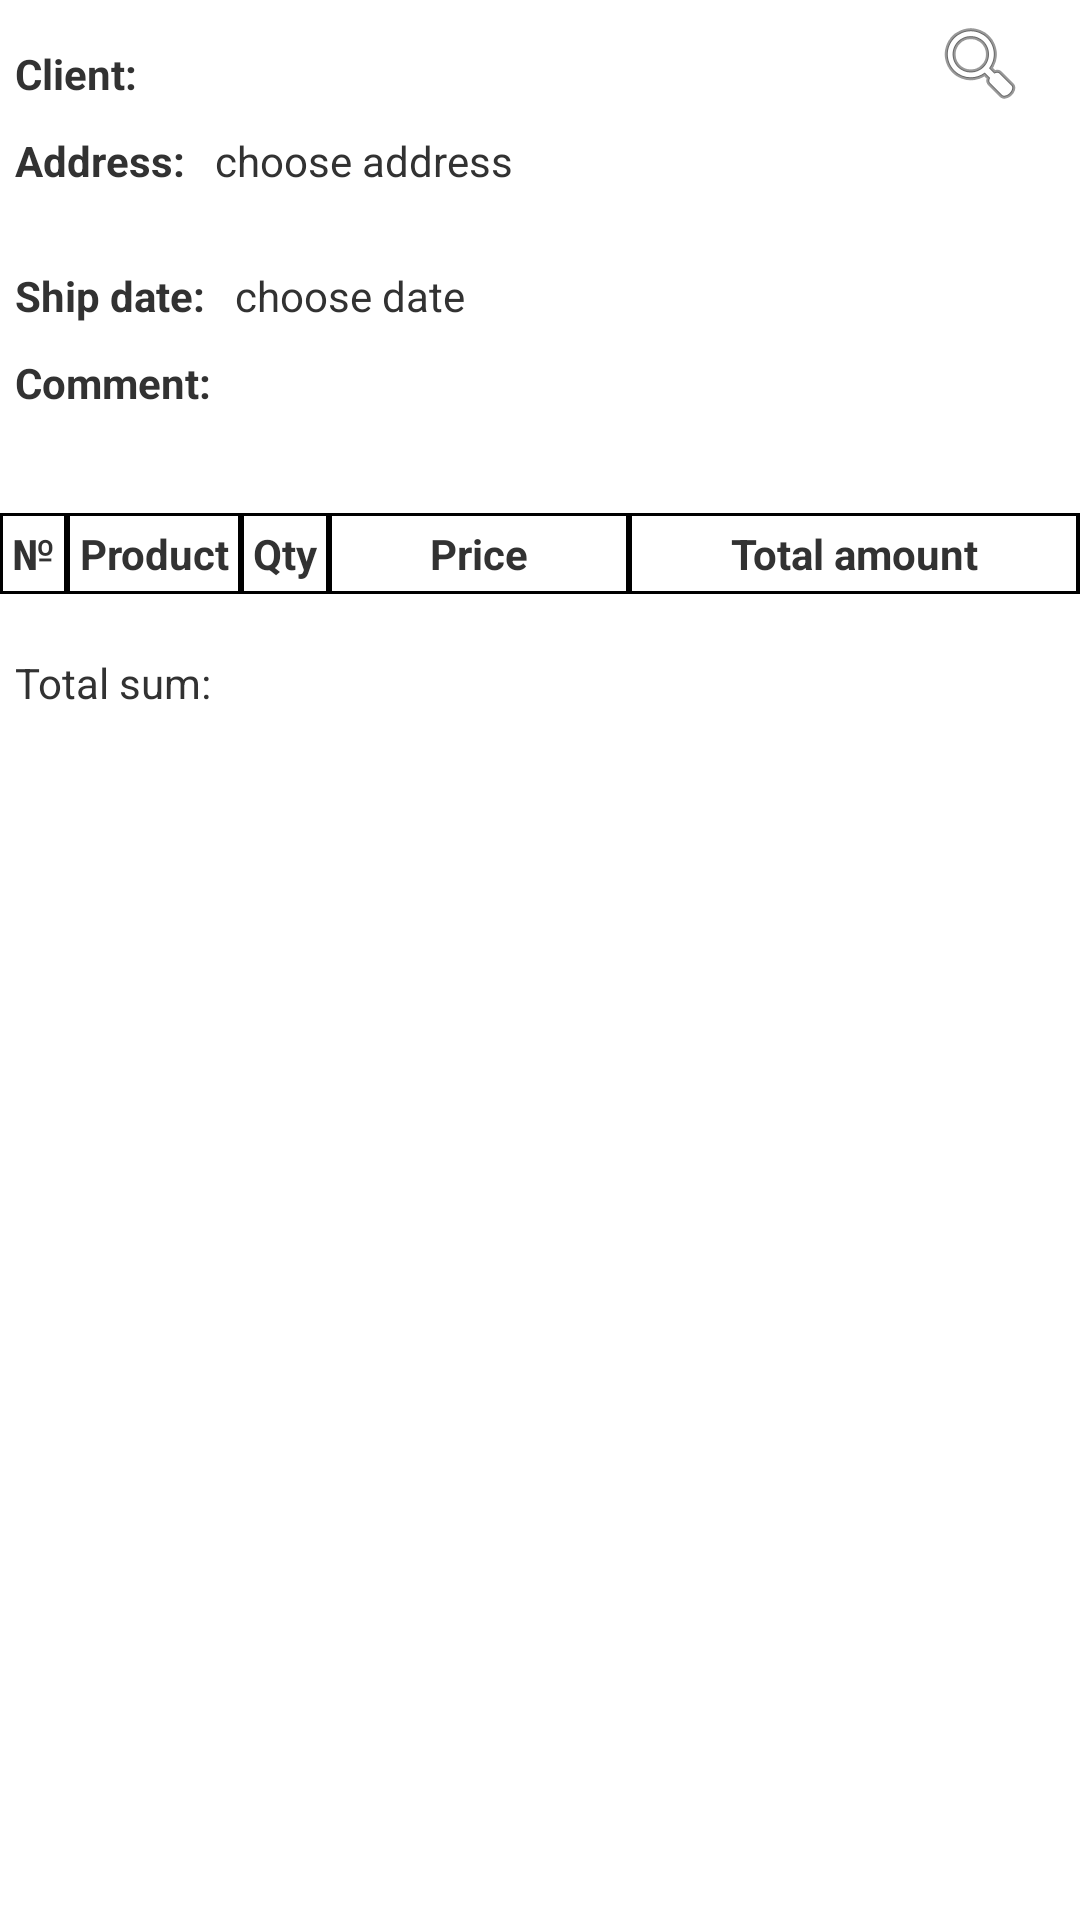

Locate icon controls on the screen. Image size 1080px×1920px, boxes as (x1, y1, x2, y2).
search: (944, 28, 1016, 99)
